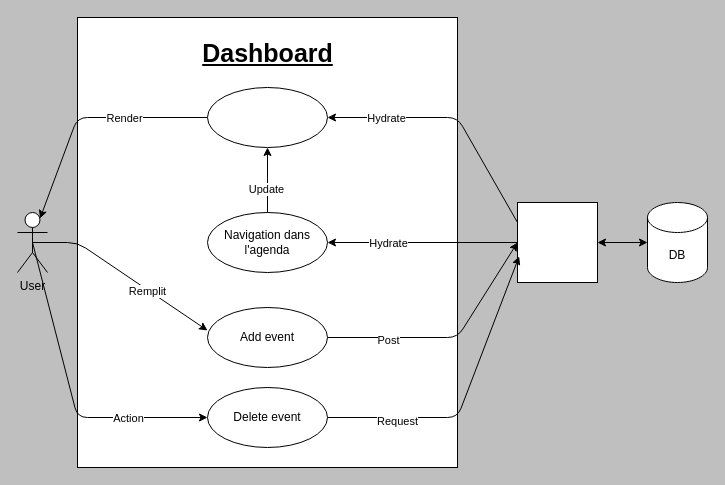
This 725x485 diagram has some shape labels left out. The shapes that lost their labels are listed below. From the top down, each one's box as (x1, y1, x2, y2) in pixels, then its label:
(206, 86, 328, 148): Next event
(516, 202, 598, 282): Back
